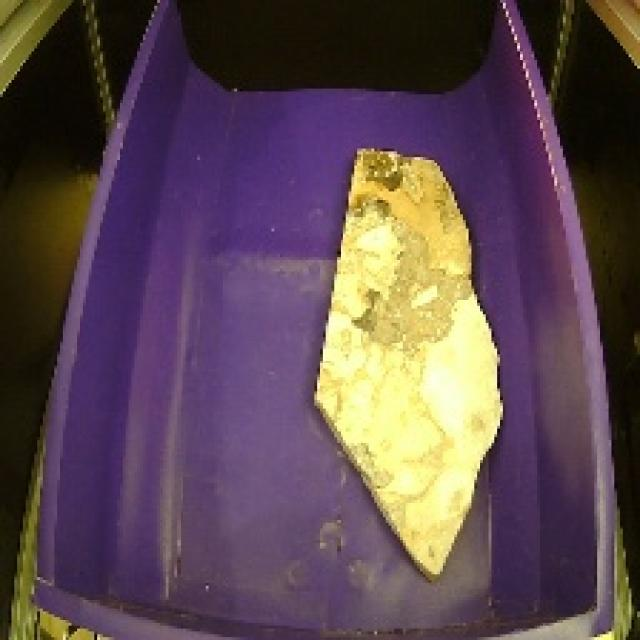china: (305, 138, 509, 589)
